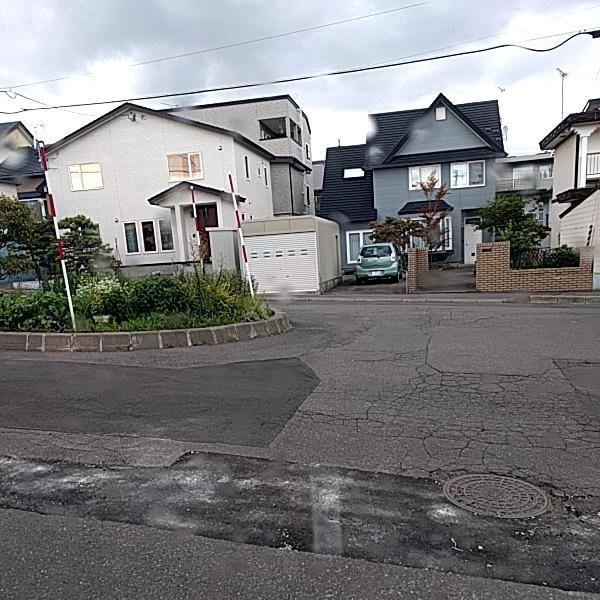pothole: (502, 481, 576, 526)
